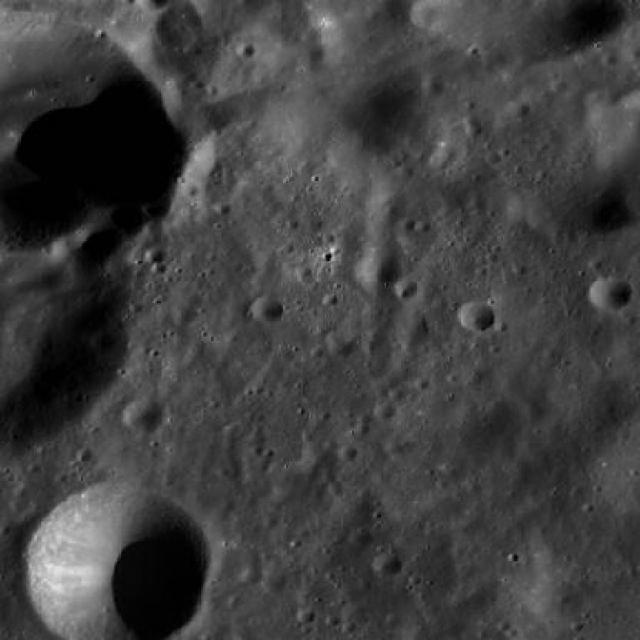crater: (0, 8, 169, 272), (252, 33, 416, 170), (306, 0, 412, 57), (250, 25, 321, 83), (198, 130, 255, 178), (355, 250, 403, 290), (24, 258, 66, 292), (592, 276, 632, 310), (124, 398, 162, 431), (366, 230, 402, 262), (371, 188, 406, 220), (458, 302, 494, 333), (368, 210, 399, 236), (50, 235, 82, 260), (410, 0, 442, 25), (252, 296, 282, 322), (373, 552, 402, 576), (328, 336, 354, 358), (396, 276, 421, 298), (78, 223, 102, 243), (524, 402, 547, 422), (263, 575, 286, 594), (349, 528, 371, 546), (94, 332, 114, 350), (374, 403, 394, 420), (508, 99, 528, 116), (621, 44, 640, 61), (241, 568, 261, 584), (422, 76, 442, 92), (0, 1, 1, 2)
